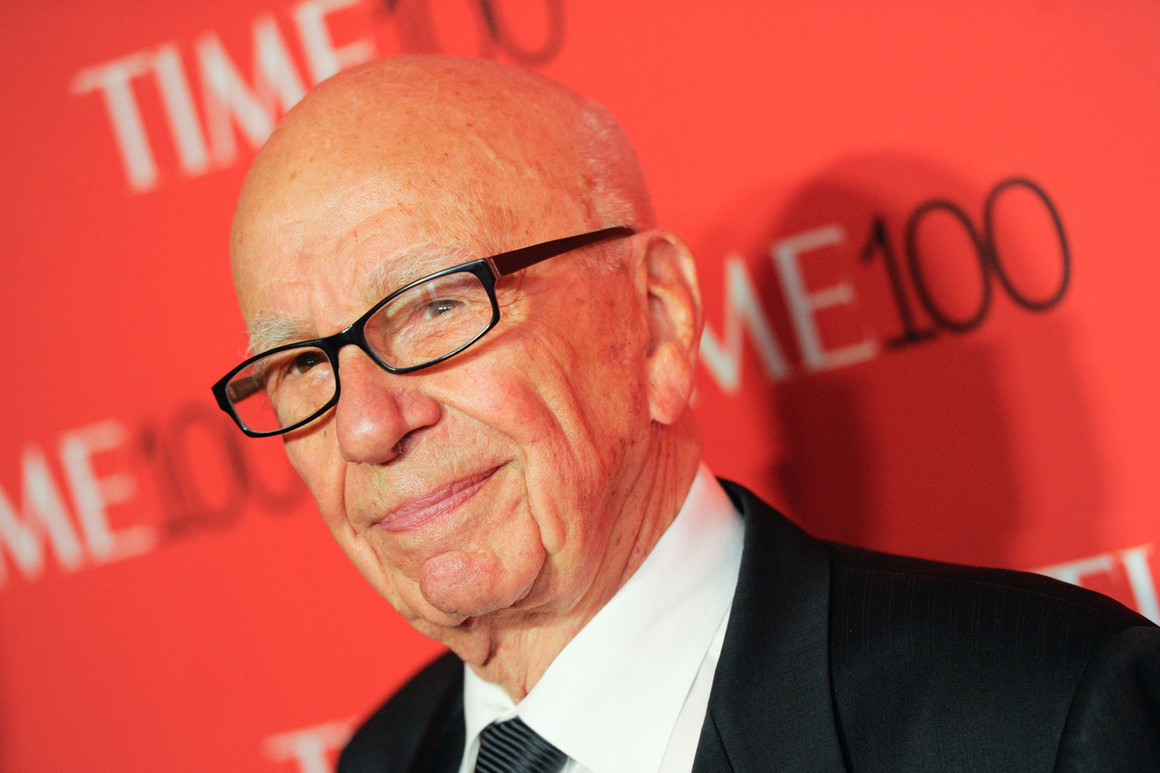person: (201, 51, 1059, 773)
